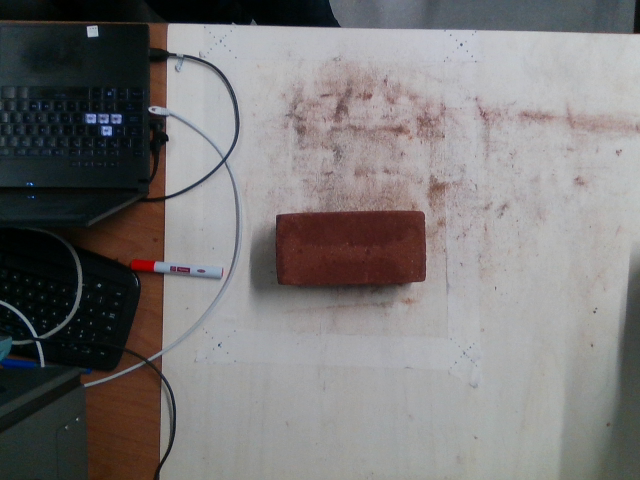brick: (275, 211, 426, 282)
